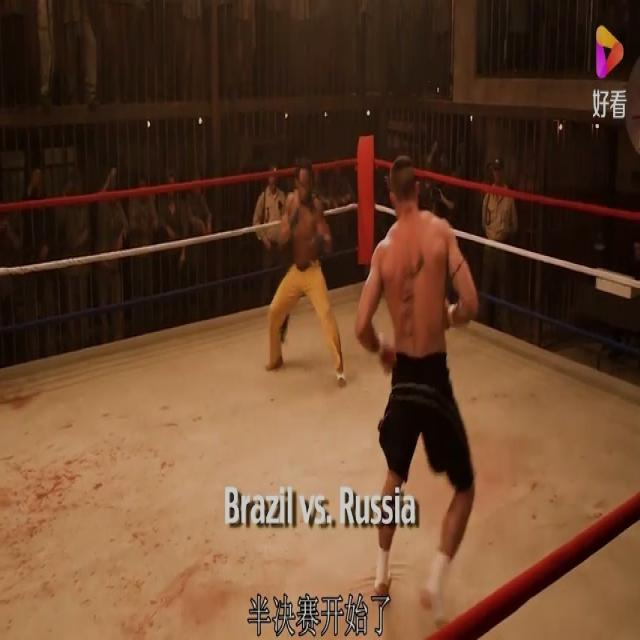fight: (262, 150, 486, 638)
